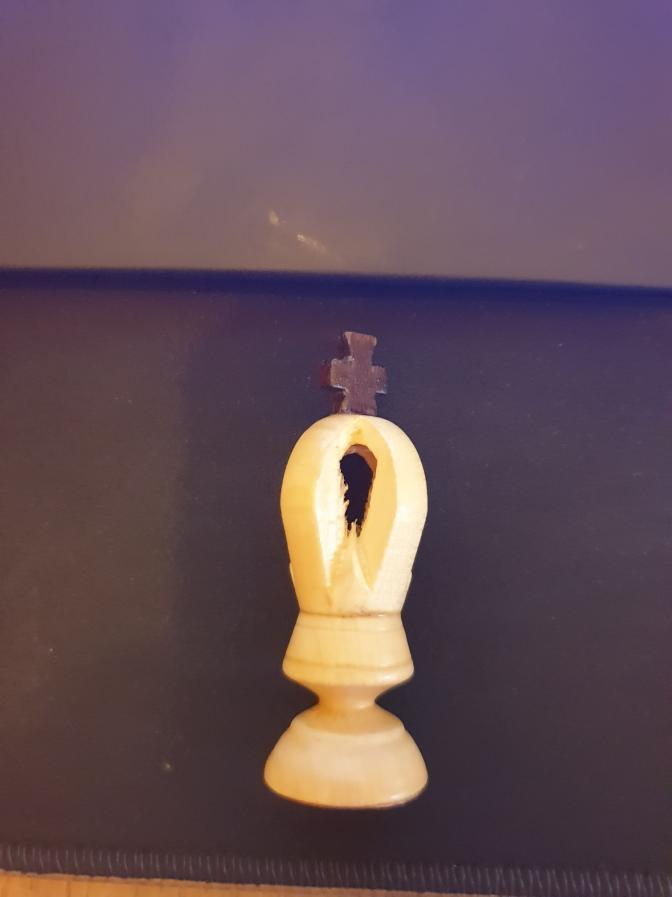wking: (263, 330, 432, 809)
